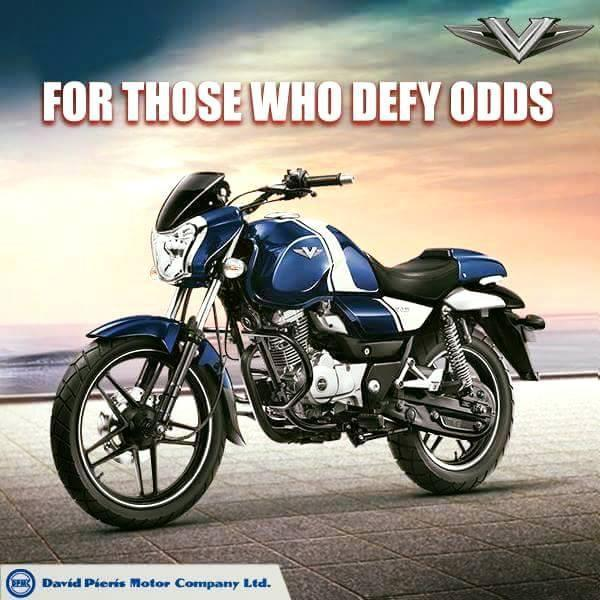motorbike: (50, 171, 546, 530)
